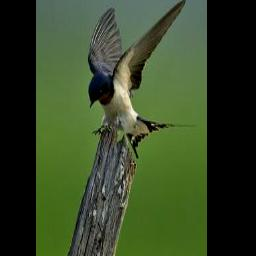Swallow: (88, 0, 198, 157)
